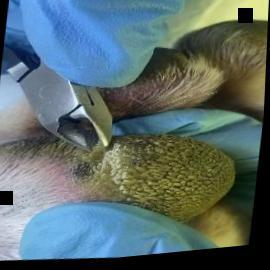keratosis: (69, 123, 246, 242)
